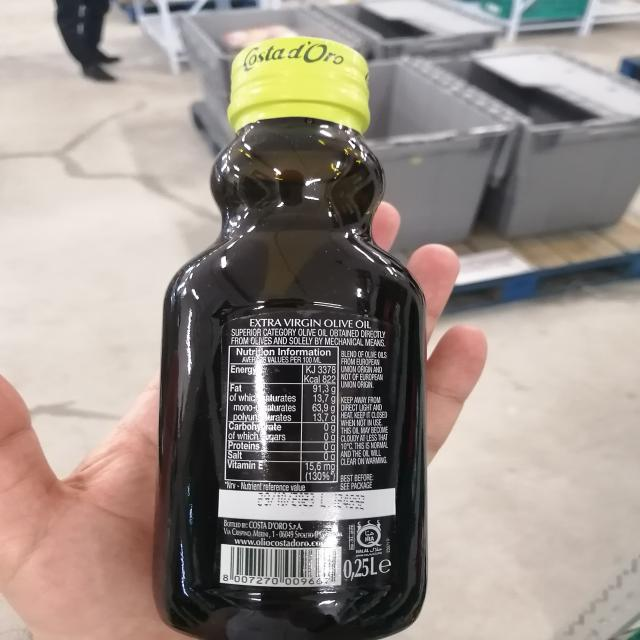object_name: (172, 47, 421, 640)
